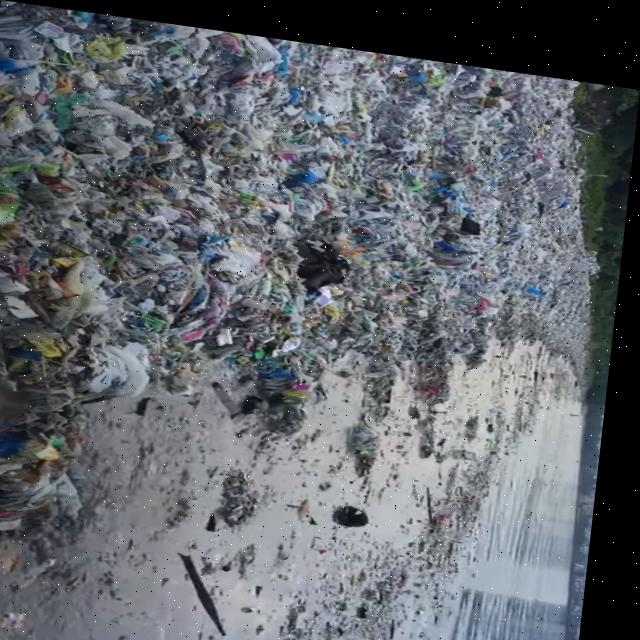litter: (198, 208, 267, 287), (93, 333, 168, 394), (89, 85, 165, 137)
